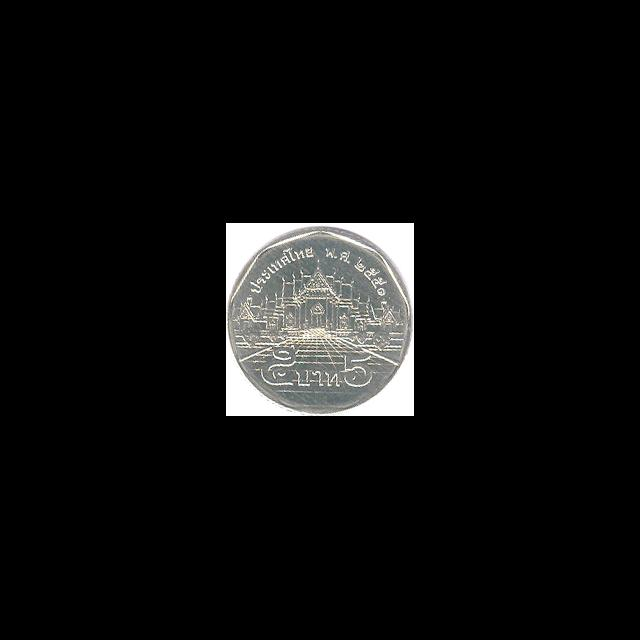5-baht: (228, 224, 414, 416)
